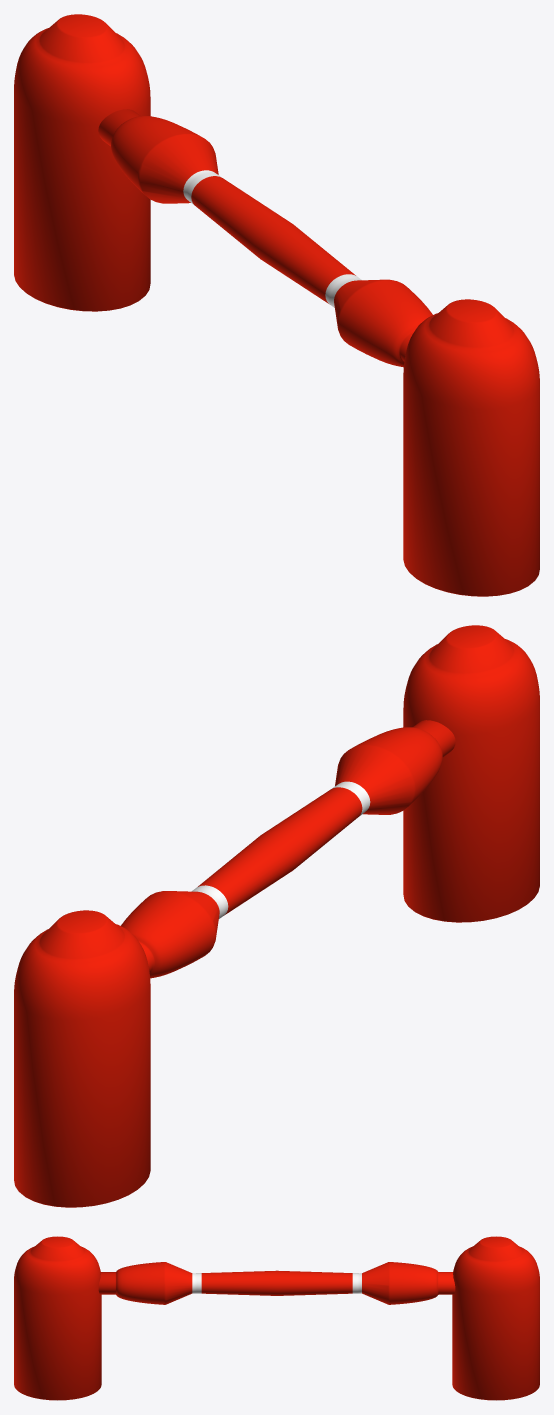
File: Obstacle6.fbx
3 renders of one model, top to bottom at view 1: azimuth 30°, elevation 25°; view 2: azimuth 150°, elevation 25°; view 3: azimuth 270°, elevation 25°, orthographic. The views are drawn at different scales.
Visible parts, largest first — view 1: Cylinder.035; view 2: Cylinder.035; view 3: Cylinder.035.
Part boxes in pixels (bbox=[...]): Cylinder.035: bbox=[14, 14, 539, 596]; Cylinder.035: bbox=[14, 625, 539, 1207]; Cylinder.035: bbox=[14, 1236, 539, 1400].
Bounding box in the file's own units: 110 × 240 × 796.
